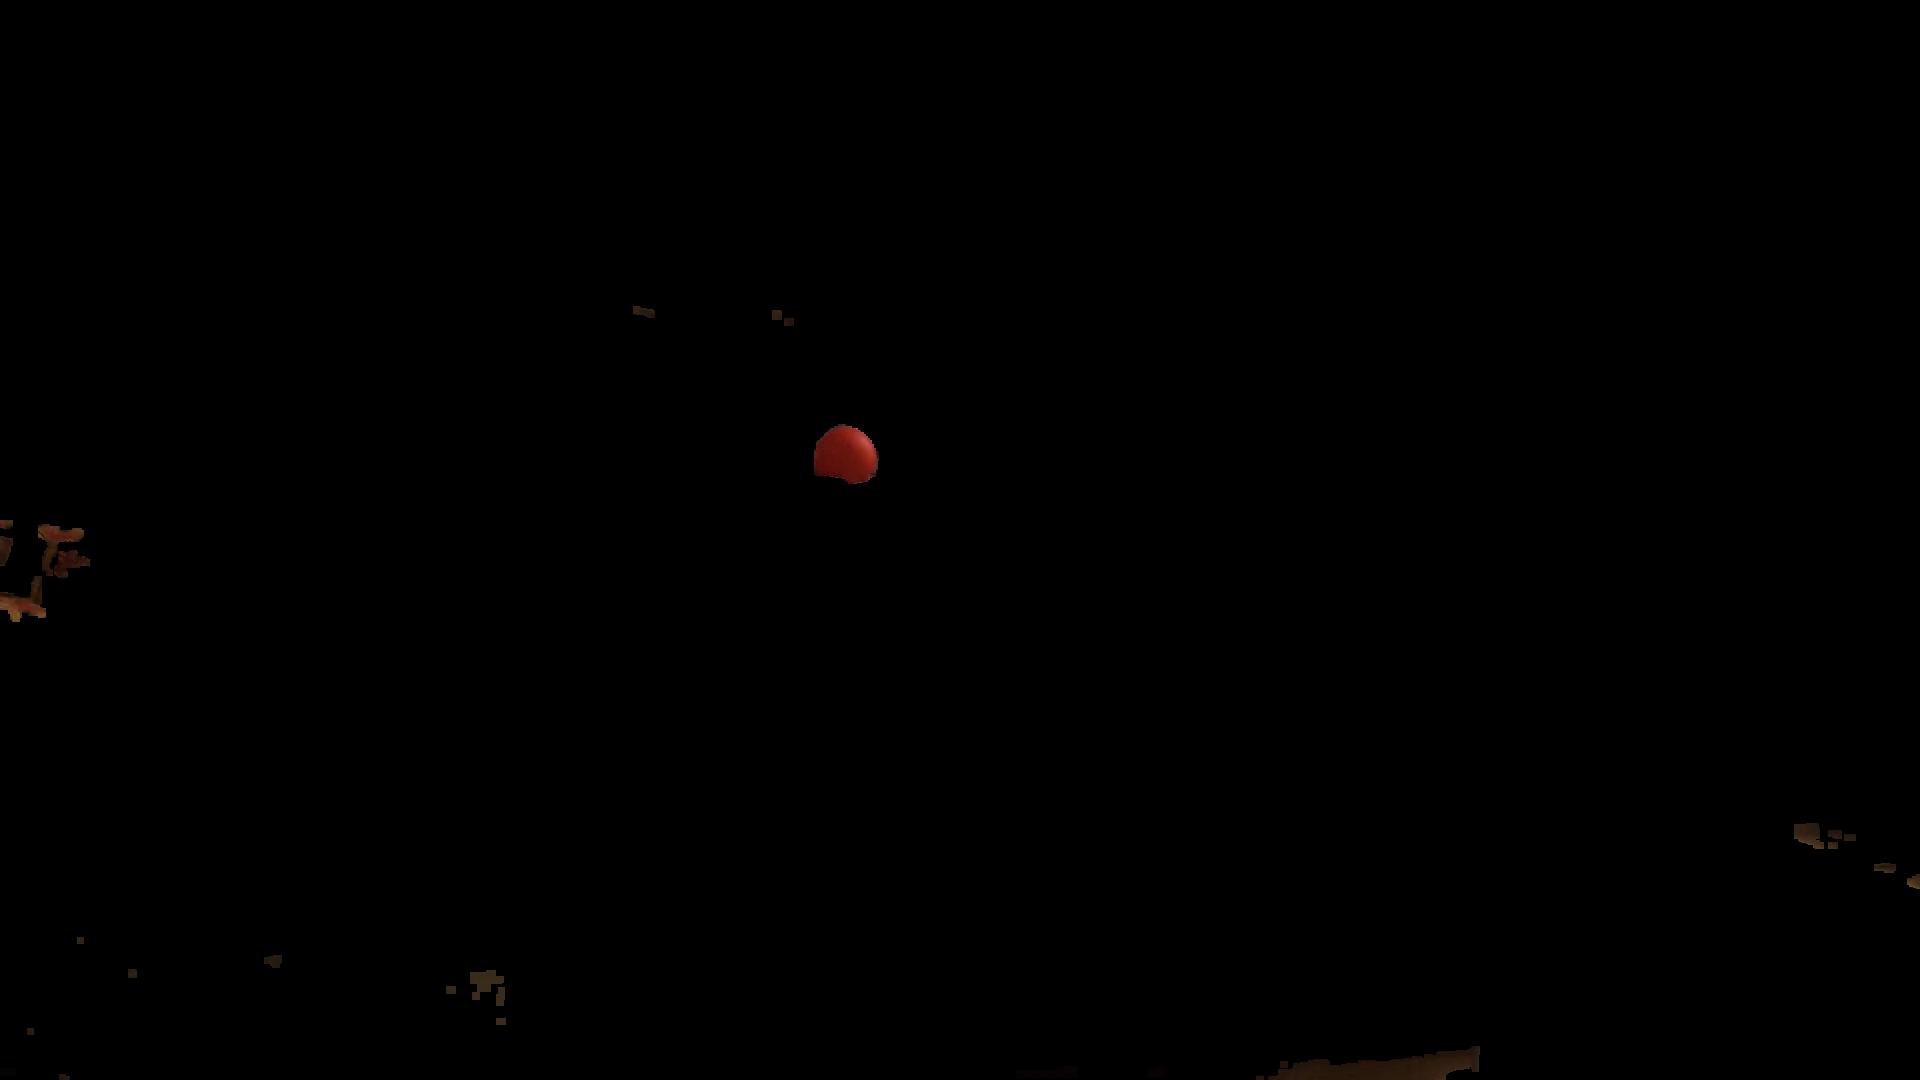Ball: (808, 425, 884, 485)
